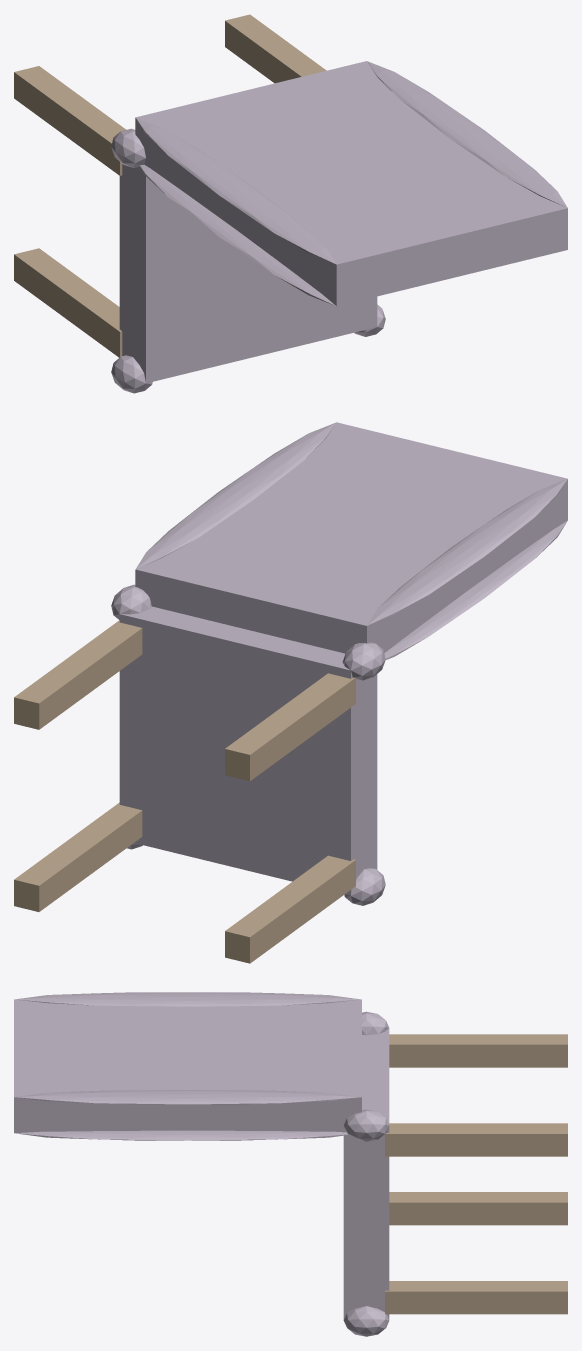
Rendered from wood_chair.glb.
The picture shows the model from 3 angles, top to bottom: view 1: azimuth 30°, elevation 25°; view 2: azimuth 150°, elevation 25°; view 3: azimuth 270°, elevation 25°; orthographic projection. The views are drawn at different scales.
Parts seen in each view (by area): view 1: backrest_core, seat_core, leg_-0.23_-0.19, backrest_corner_-1_1, backrest_corner_1_1, leg_-0.23_0.19, leg_0.23_0.19, backrest_corner_-1_-1, seat_corner_-1_-1, seat_corner_-1_1; view 2: backrest_core, seat_core, leg_-0.23_-0.19, leg_-0.23_0.19, leg_0.23_0.19, leg_0.23_-0.19, backrest_corner_-1_1, backrest_corner_1_1, backrest_corner_-1_-1, seat_corner_-1_1, seat_corner_-1_-1, seat_corner_1_1; view 3: backrest_core, seat_core, leg_0.23_-0.19, leg_0.23_0.19, leg_-0.23_-0.19, leg_-0.23_0.19, backrest_corner_1_1, backrest_corner_-1_1, backrest_corner_1_-1, seat_corner_1_1, seat_corner_1_-1, seat_corner_-1_1.
Part boxes in pixels (x1,y1,x2,y2): backrest_core: [135, 61, 567, 306]; seat_core: [119, 164, 377, 383]; leg_-0.23_-0.19: [14, 248, 122, 357]; backrest_corner_-1_1: [136, 117, 336, 264]; backrest_corner_1_1: [367, 61, 567, 207]; leg_-0.23_0.19: [14, 66, 126, 175]; leg_0.23_0.19: [225, 14, 326, 83]; backrest_corner_-1_-1: [139, 164, 335, 305]; seat_corner_-1_-1: [111, 355, 152, 393]; seat_corner_-1_1: [111, 128, 145, 167]; backrest_core: [135, 422, 567, 653]; seat_core: [119, 606, 377, 895]; leg_-0.23_-0.19: [225, 855, 355, 963]; leg_-0.23_0.19: [225, 673, 355, 781]; leg_0.23_0.19: [14, 620, 142, 729]; leg_0.23_-0.19: [14, 802, 142, 911]; backrest_corner_-1_1: [367, 479, 567, 625]; backrest_corner_1_1: [136, 422, 336, 568]; backrest_corner_-1_-1: [384, 521, 567, 659]; seat_corner_-1_1: [342, 642, 385, 680]; seat_corner_-1_-1: [344, 868, 385, 905]; seat_corner_1_1: [111, 584, 151, 619]; backrest_core: [14, 999, 361, 1133]; seat_core: [343, 1028, 389, 1319]; leg_0.23_-0.19: [385, 1281, 567, 1314]; leg_0.23_0.19: [385, 1123, 567, 1156]; leg_-0.23_-0.19: [389, 1192, 567, 1225]; leg_-0.23_0.19: [389, 1034, 567, 1067]; backrest_corner_1_1: [14, 1090, 361, 1104]; backrest_corner_-1_1: [14, 992, 361, 1006]; backrest_corner_1_-1: [16, 1130, 348, 1140]; seat_corner_1_1: [343, 1109, 389, 1141]; seat_corner_1_-1: [343, 1306, 389, 1336]; seat_corner_-1_1: [362, 1011, 389, 1035].
Bounding box in the file's own units: 0.58 × 0.58 × 1.21.
